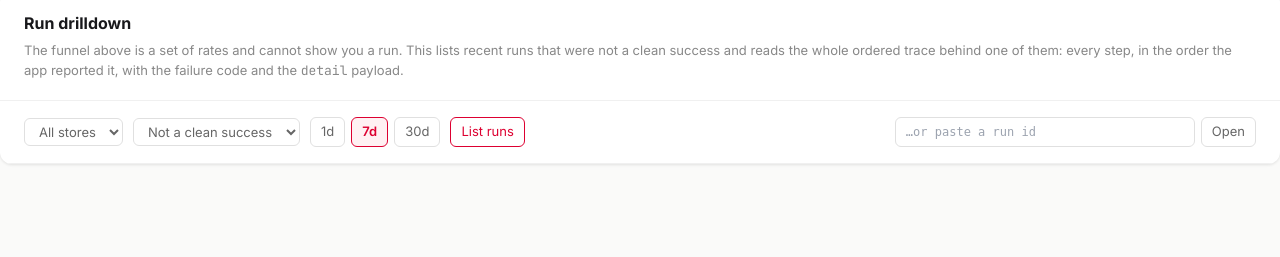
Scenario: AdminRunDrilldown › says a run reporting success with partial adds is outside the failing filter
Click the button "List runs": click(488, 132) [450,117,525,146]
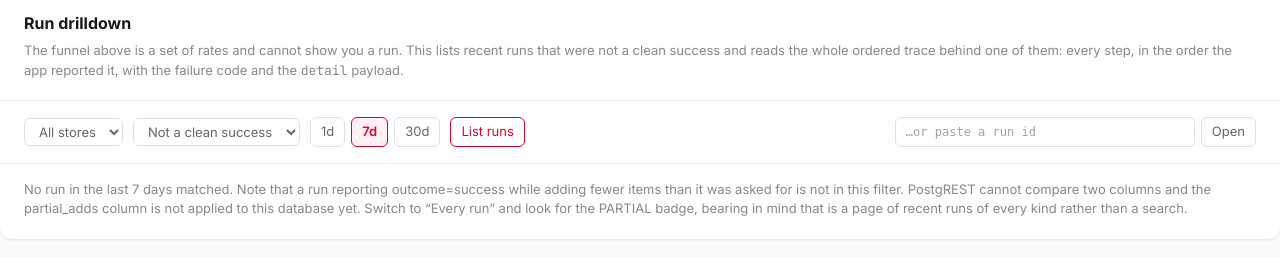
Expected: the text "No run in the last 7 days matched" is shown, [24,180,1256,218]
Expected: the text "partial_adds column is not applied" is shown, [24,180,1211,216]
